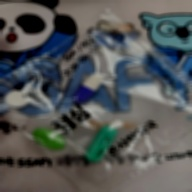러키펜정: (6, 90, 30, 108)
씨엠지세파클러캡슐: (72, 71, 104, 104)
에르도캡슐: (84, 125, 118, 163)
휴티렌정: (32, 128, 66, 151)
